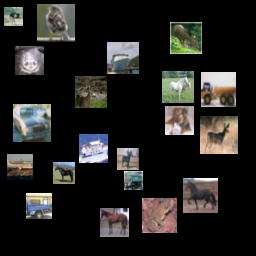airplane: (7, 154, 33, 180)
automobile: (13, 104, 51, 142)
bird: (37, 4, 75, 42), (4, 7, 23, 26)
deer: (200, 116, 238, 154), (75, 76, 107, 108), (170, 22, 202, 54)
dog: (165, 106, 194, 135)
frog: (142, 198, 177, 233)
ship: (107, 42, 139, 74), (15, 46, 44, 75), (79, 134, 108, 163)
